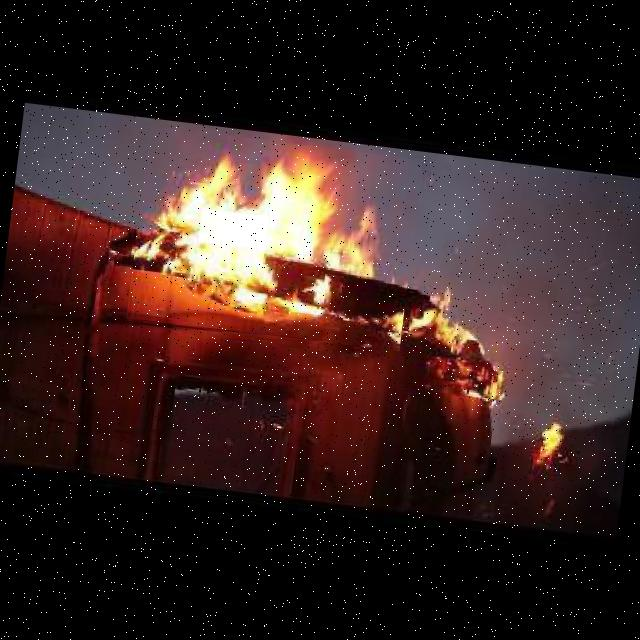fire: (126, 126, 422, 351), (401, 297, 546, 404)
